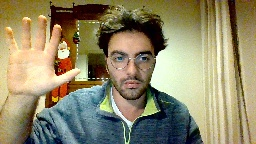Mano_aperta: (2, 12, 82, 97)
